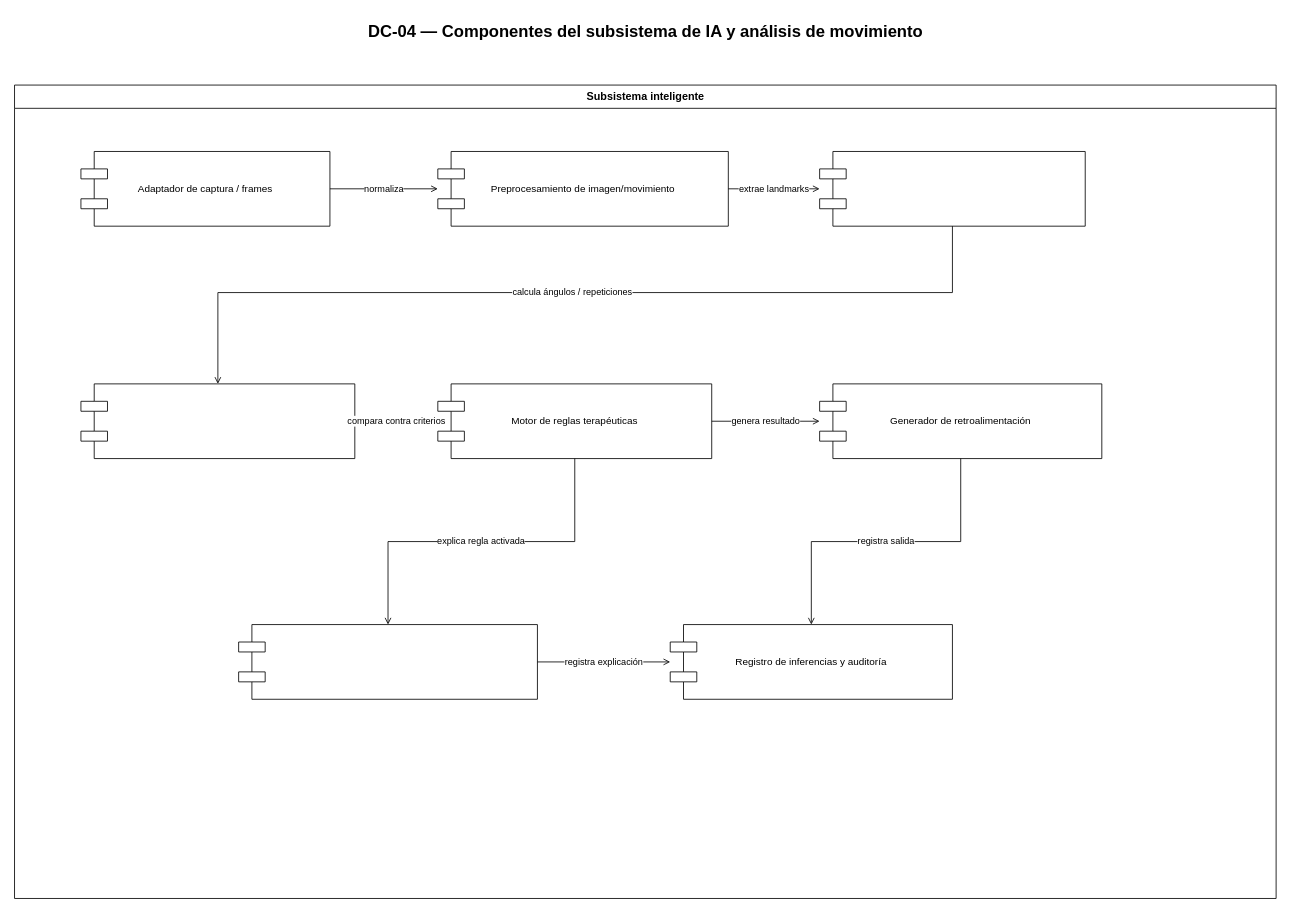
Image size: 1291x913. Some labels were removed from this diagram. The box of each missing label's shape, as (x1, y1, x2, y2) in pixels:
Cálculo de métricas de ejecución: (80, 383, 355, 459)
Estimación de postura / pose: (819, 151, 1085, 226)
Explicabilidad / motivo de recomendación: (238, 624, 537, 699)
